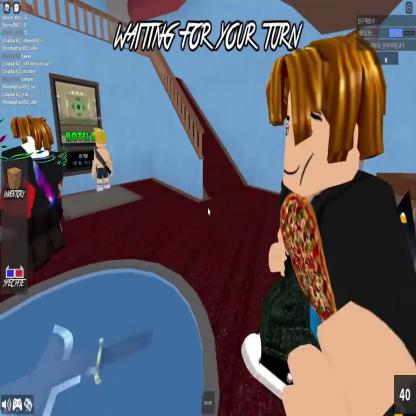Roblox-Avatar: (242, 29, 416, 416), (1, 116, 69, 273)
